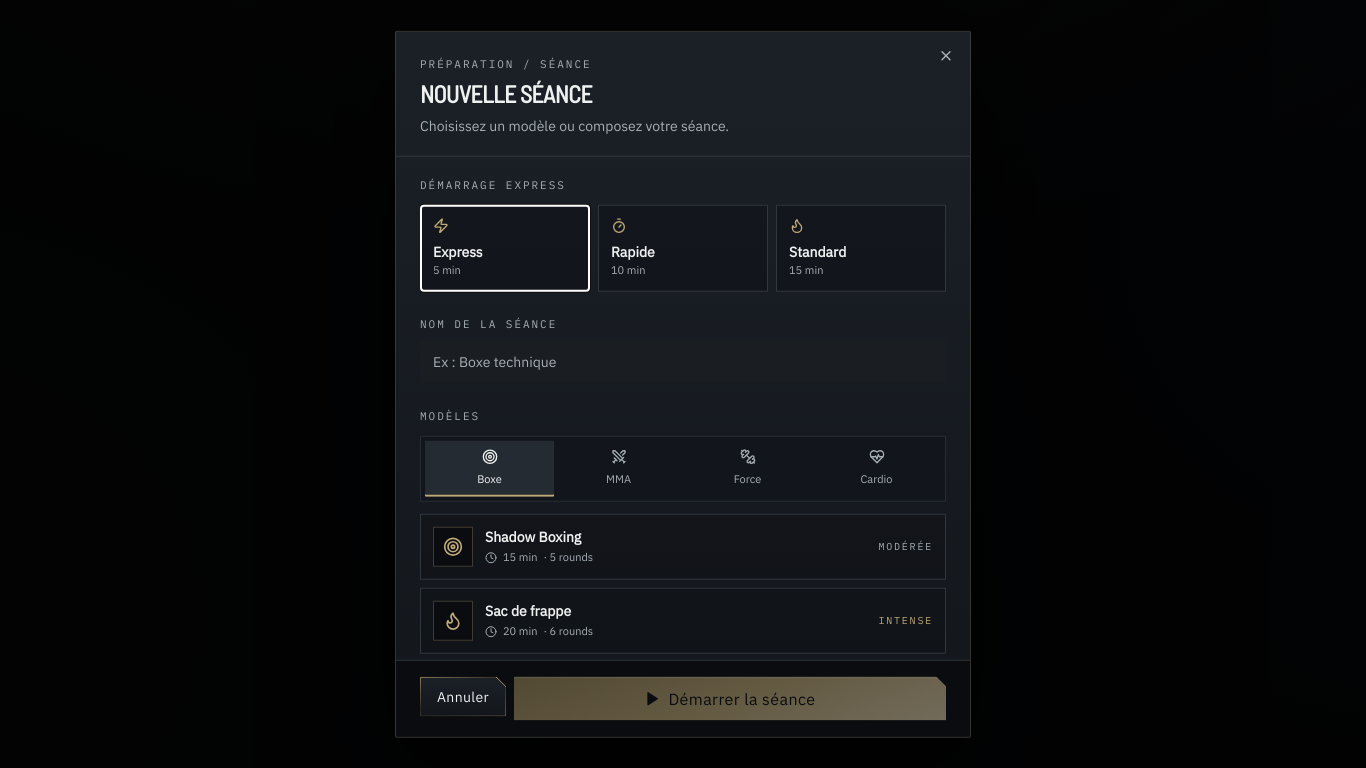
Test: StartWorkoutDialogV2 - MMA Templates › should render MMA/grappling templates
// Click on MMA tab to see grappling templates
Click the tab "MMA". click: {"x": 618, "y": 468}
box: [554, 440, 683, 496]
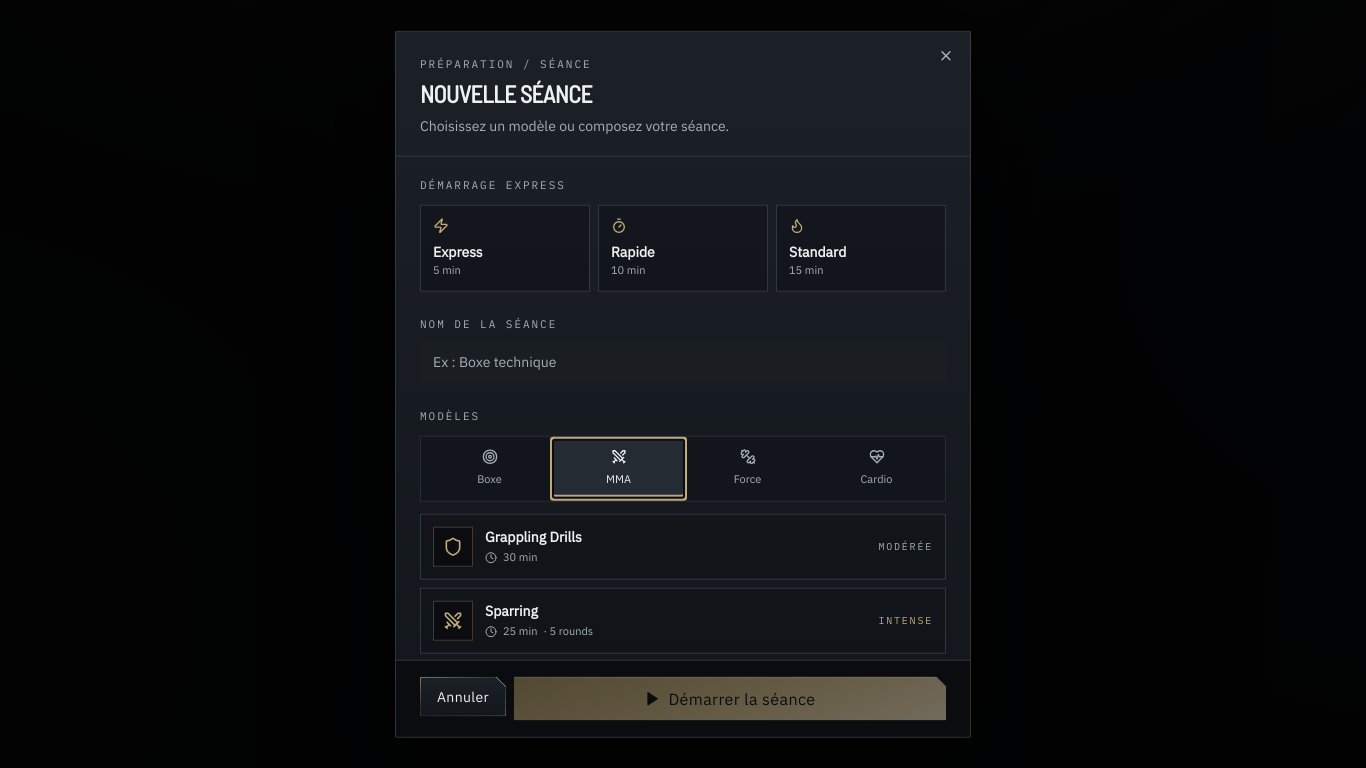
Expected: the text "Grappling Drills" is shown, [485, 528, 582, 546]
Expected: the text "Sparring" is shown, [485, 602, 538, 620]
